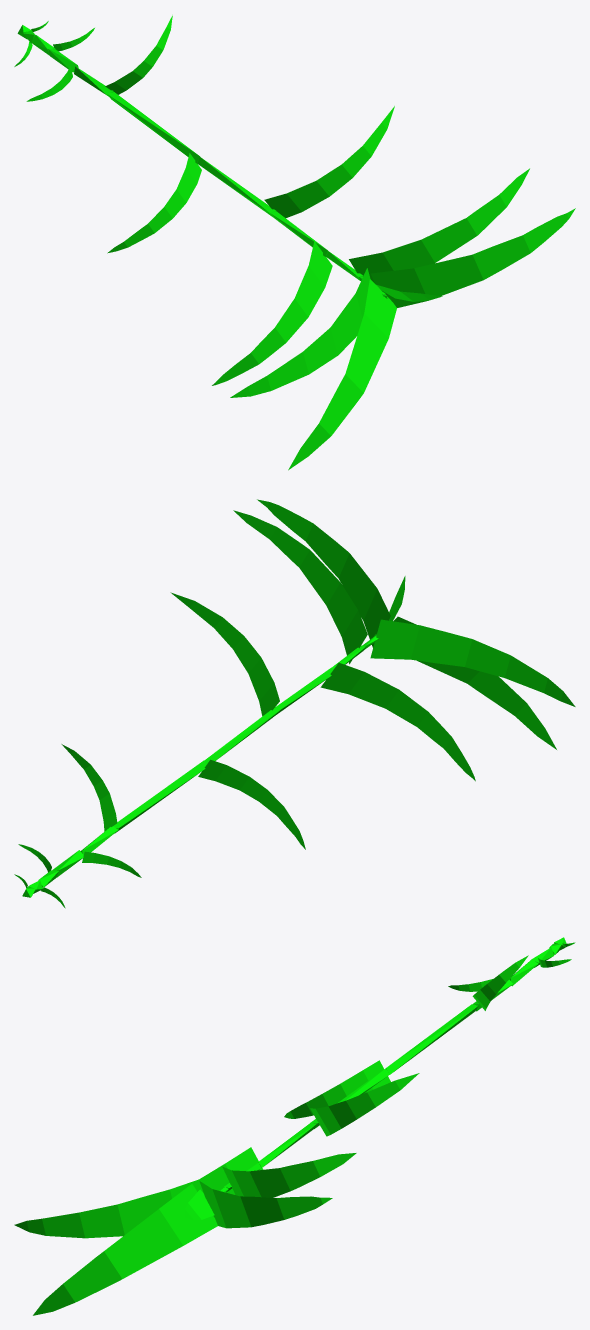
Rendered from usm_20_Beer_2018-09-18_1.obj.
3 views of the same model, one above another, from view 1: azimuth 30°, elevation 25°; view 2: azimuth 150°, elevation 25°; view 3: azimuth 330°, elevation 25° (orthographic).
Parts seen in each view (by area): view 1: vid_24, vid_26, vid_20, vid_22, vid_18, vid_16, vid_14, vid_12, vid_13, vid_15; view 2: vid_22, vid_24, vid_20, vid_18, vid_16, vid_26, vid_14, vid_12, vid_13, vid_15; view 3: vid_26, vid_22, vid_24, vid_20, vid_16, vid_14, vid_13, vid_18, vid_12, vid_28, vid_17.
Part boxes in pixels (left/top/right/bottom): vid_24: left=371, top=208, right=575, bottom=307; vid_26: left=288, top=279, right=396, bottom=470; vid_20: left=349, top=168, right=529, bottom=283; vid_22: left=230, top=268, right=370, bottom=397; vid_18: left=212, top=241, right=332, bottom=385; vid_16: left=264, top=106, right=394, bottom=217; vid_14: left=107, top=153, right=201, bottom=253; vid_12: left=105, top=15, right=172, bottom=94; vid_13: left=107, top=92, right=199, bottom=163; vid_15: left=197, top=157, right=275, bottom=216; vid_22: left=370, top=619, right=575, bottom=706; vid_24: left=257, top=499, right=390, bottom=647; vid_20: left=233, top=510, right=367, bottom=664; vid_18: left=320, top=662, right=475, bottom=781; vid_16: left=170, top=592, right=279, bottom=716; vid_26: left=371, top=616, right=556, bottom=749; vid_14: left=198, top=759, right=305, bottom=849; vid_12: left=61, top=744, right=117, bottom=831; vid_13: left=113, top=760, right=205, bottom=833; vid_15: left=204, top=708, right=279, bottom=764; vid_26: left=33, top=1184, right=217, bottom=1315; vid_22: left=14, top=1176, right=211, bottom=1238; vid_24: left=199, top=1181, right=332, bottom=1228; vid_20: left=222, top=1153, right=356, bottom=1197; vid_16: left=310, top=1073, right=419, bottom=1136; vid_14: left=284, top=1060, right=390, bottom=1118; vid_13: left=386, top=1004, right=478, bottom=1074; vid_18: left=200, top=1147, right=263, bottom=1194; vid_12: left=472, top=955, right=528, bottom=1010; vid_28: left=184, top=1189, right=214, bottom=1220; vid_17: left=258, top=1123, right=316, bottom=1167.
Bounding box in the file's own units: 131 × 75.85 × 272.
